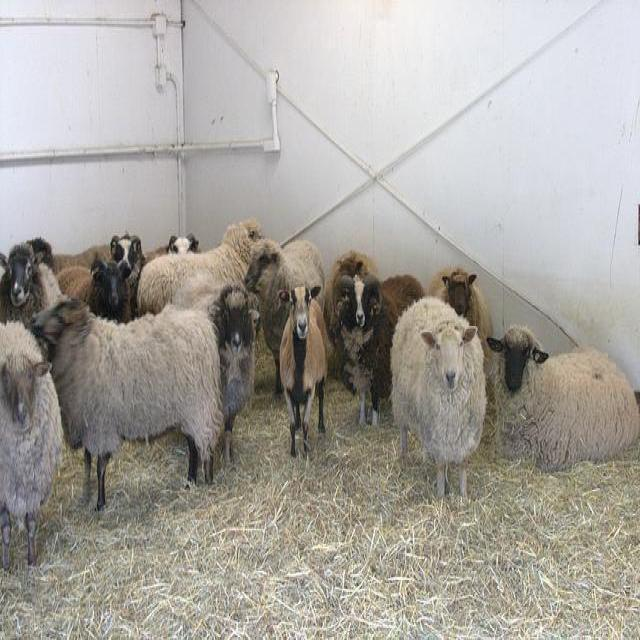Sheep: (82, 212, 287, 566), (32, 278, 224, 514), (486, 323, 639, 473), (389, 291, 490, 508), (0, 323, 63, 538), (325, 252, 399, 427), (136, 224, 267, 315), (256, 240, 327, 394), (276, 286, 335, 462), (211, 284, 255, 466), (0, 246, 61, 350), (428, 266, 494, 345), (56, 260, 132, 321)
